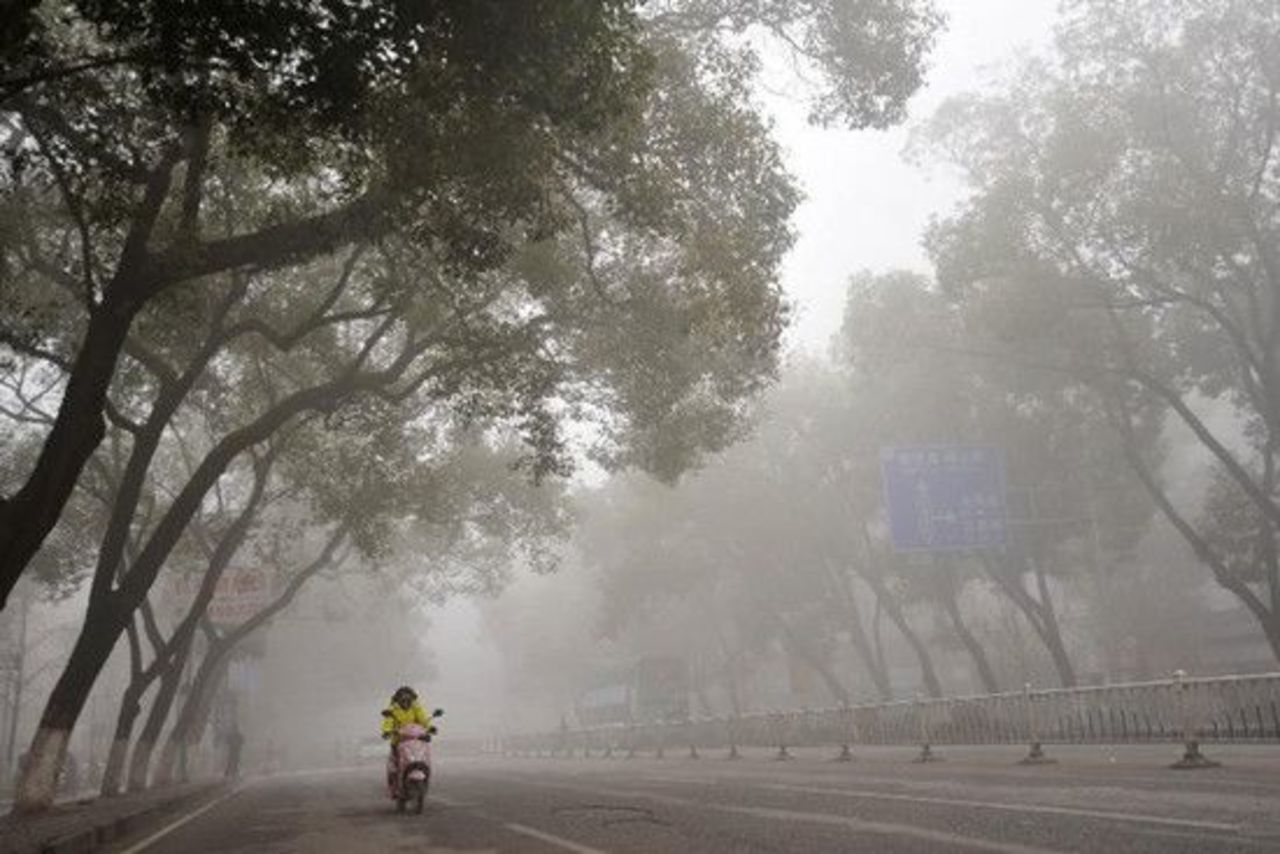bus: (573, 648, 694, 725)
motorcycle: (385, 729, 433, 814)
person: (378, 688, 438, 786)
